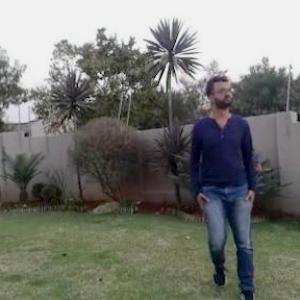follow: (182, 42, 267, 299)
